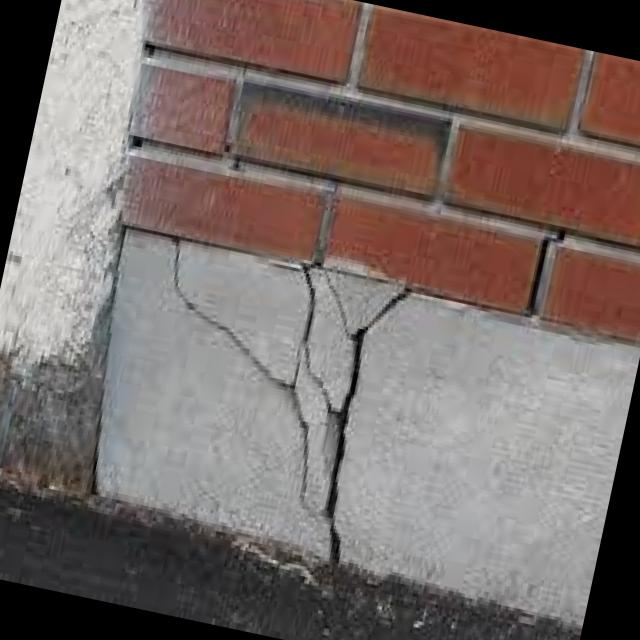crack: (113, 232, 410, 566)
